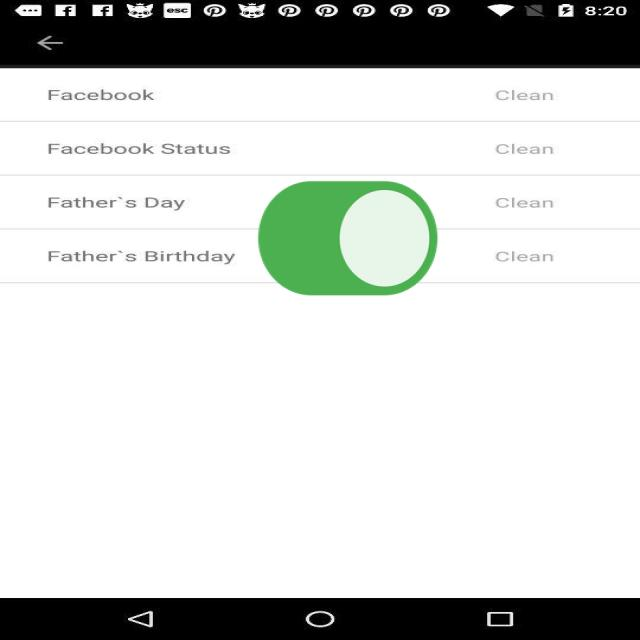social proof: (250, 137, 446, 348)
